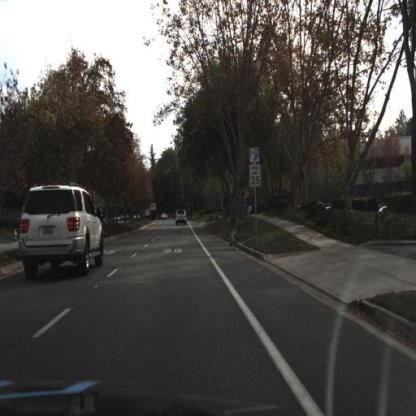biker: (227, 196, 242, 255), (227, 197, 238, 253)
car: (17, 180, 106, 285), (174, 208, 189, 230)
